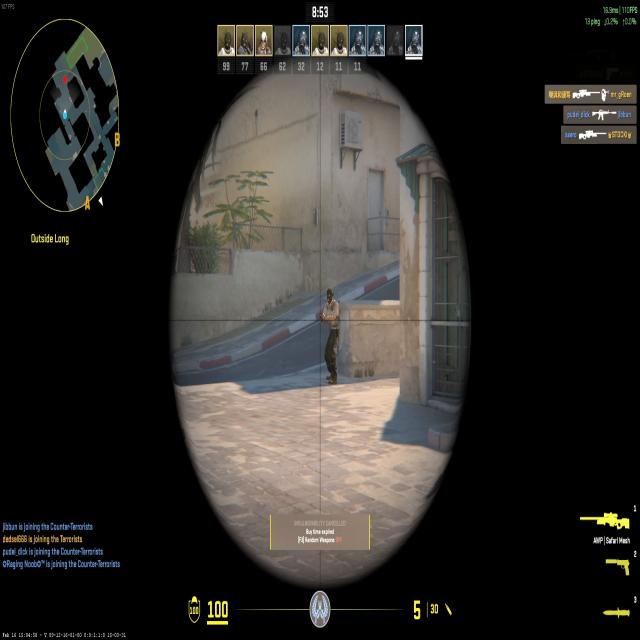player: (316, 287, 347, 389)
